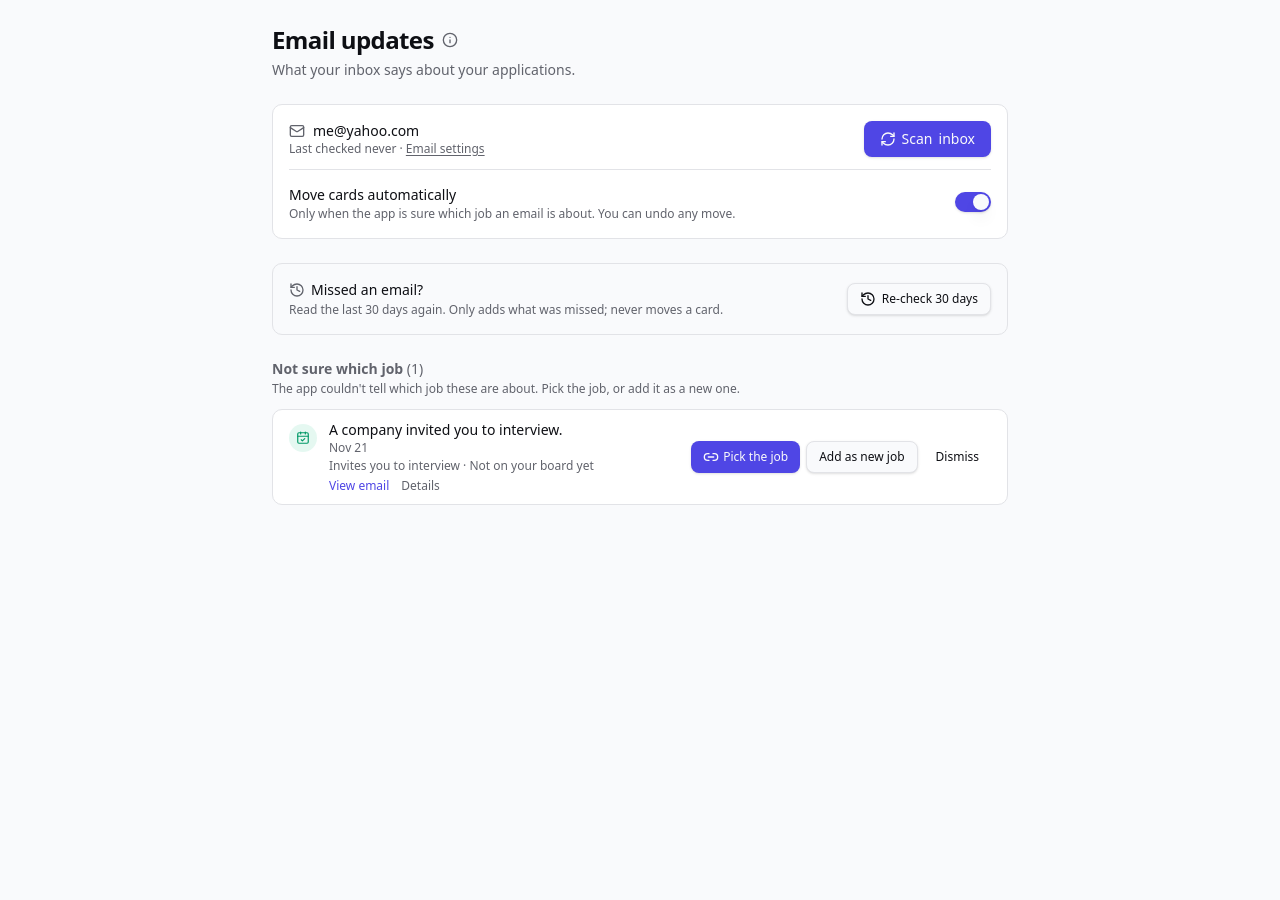
it: an update about a job the app couldn't place › asks for the names when the email didn't say them
Click the button "Pick the job": (746, 457) [691, 441, 800, 473]
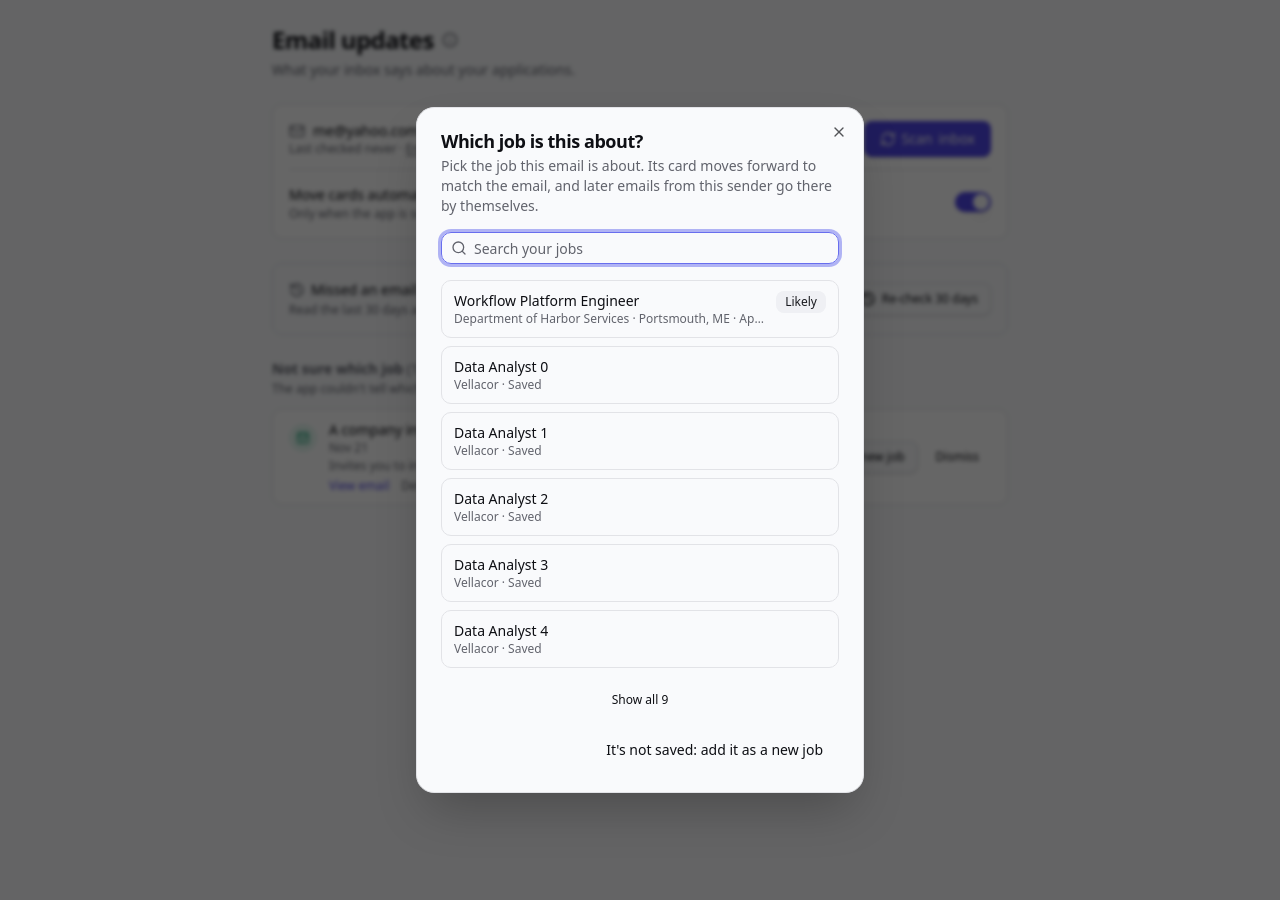
Click the button "It's not saved: add it as a new job": (715, 750) [590, 732, 839, 768]
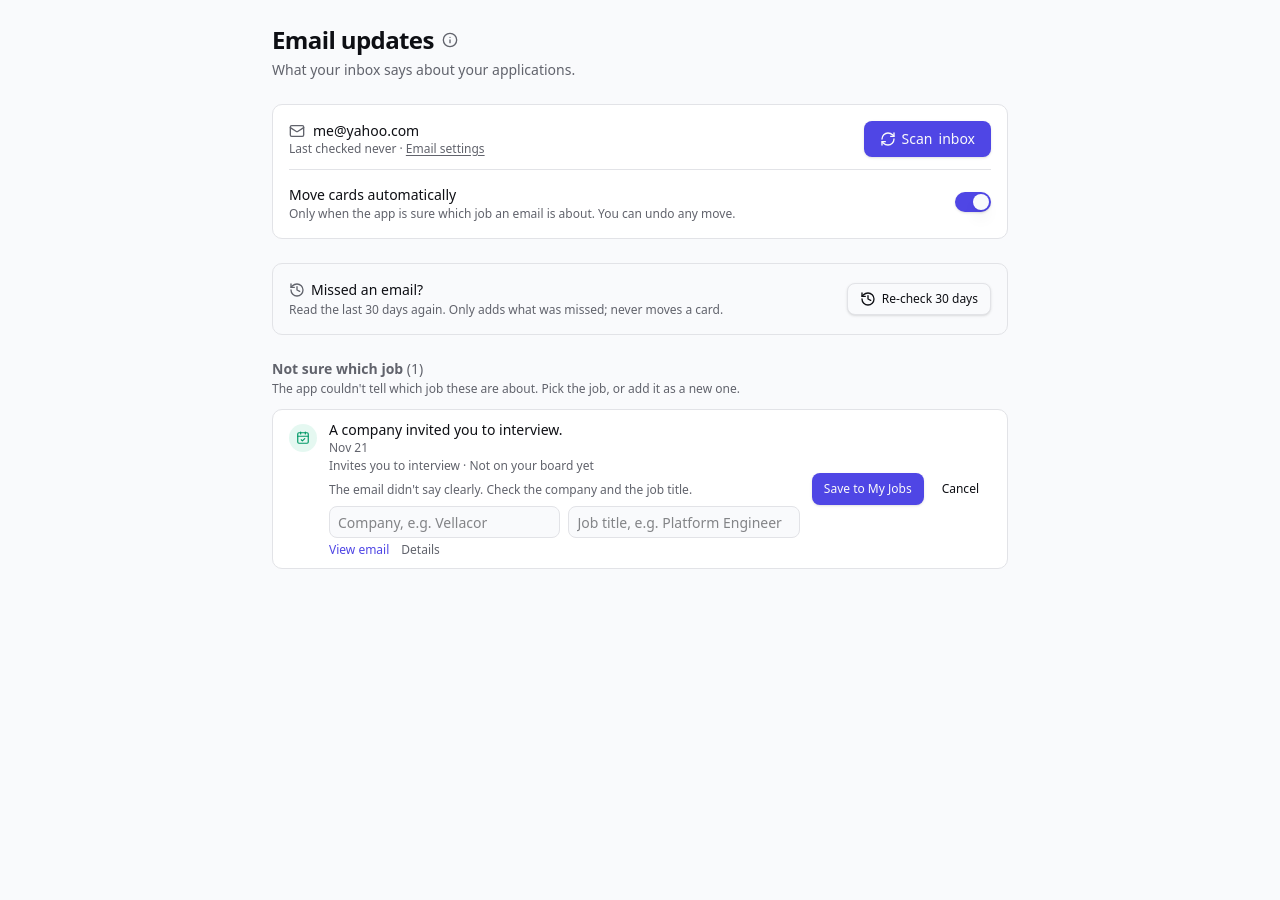
Check: the field labelled "Company" is shown, box [329, 506, 560, 538]
Check: the button "Save to My Jobs" is shown, box [812, 473, 924, 505]
